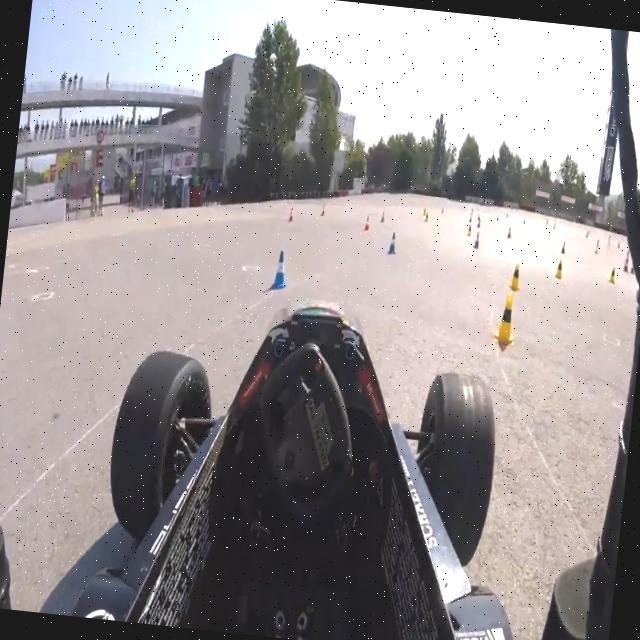blue_cone: (272, 248, 288, 289), (387, 230, 398, 255), (472, 231, 480, 250)
orange_cone: (363, 214, 371, 232)
yellow_cone: (493, 292, 518, 345), (508, 262, 522, 291), (554, 258, 564, 280), (608, 266, 616, 284)
